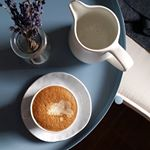cups: (67, 1, 136, 74)
